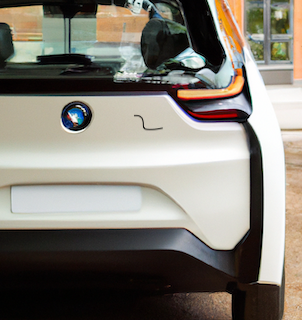scratch: (128, 110, 164, 137)
